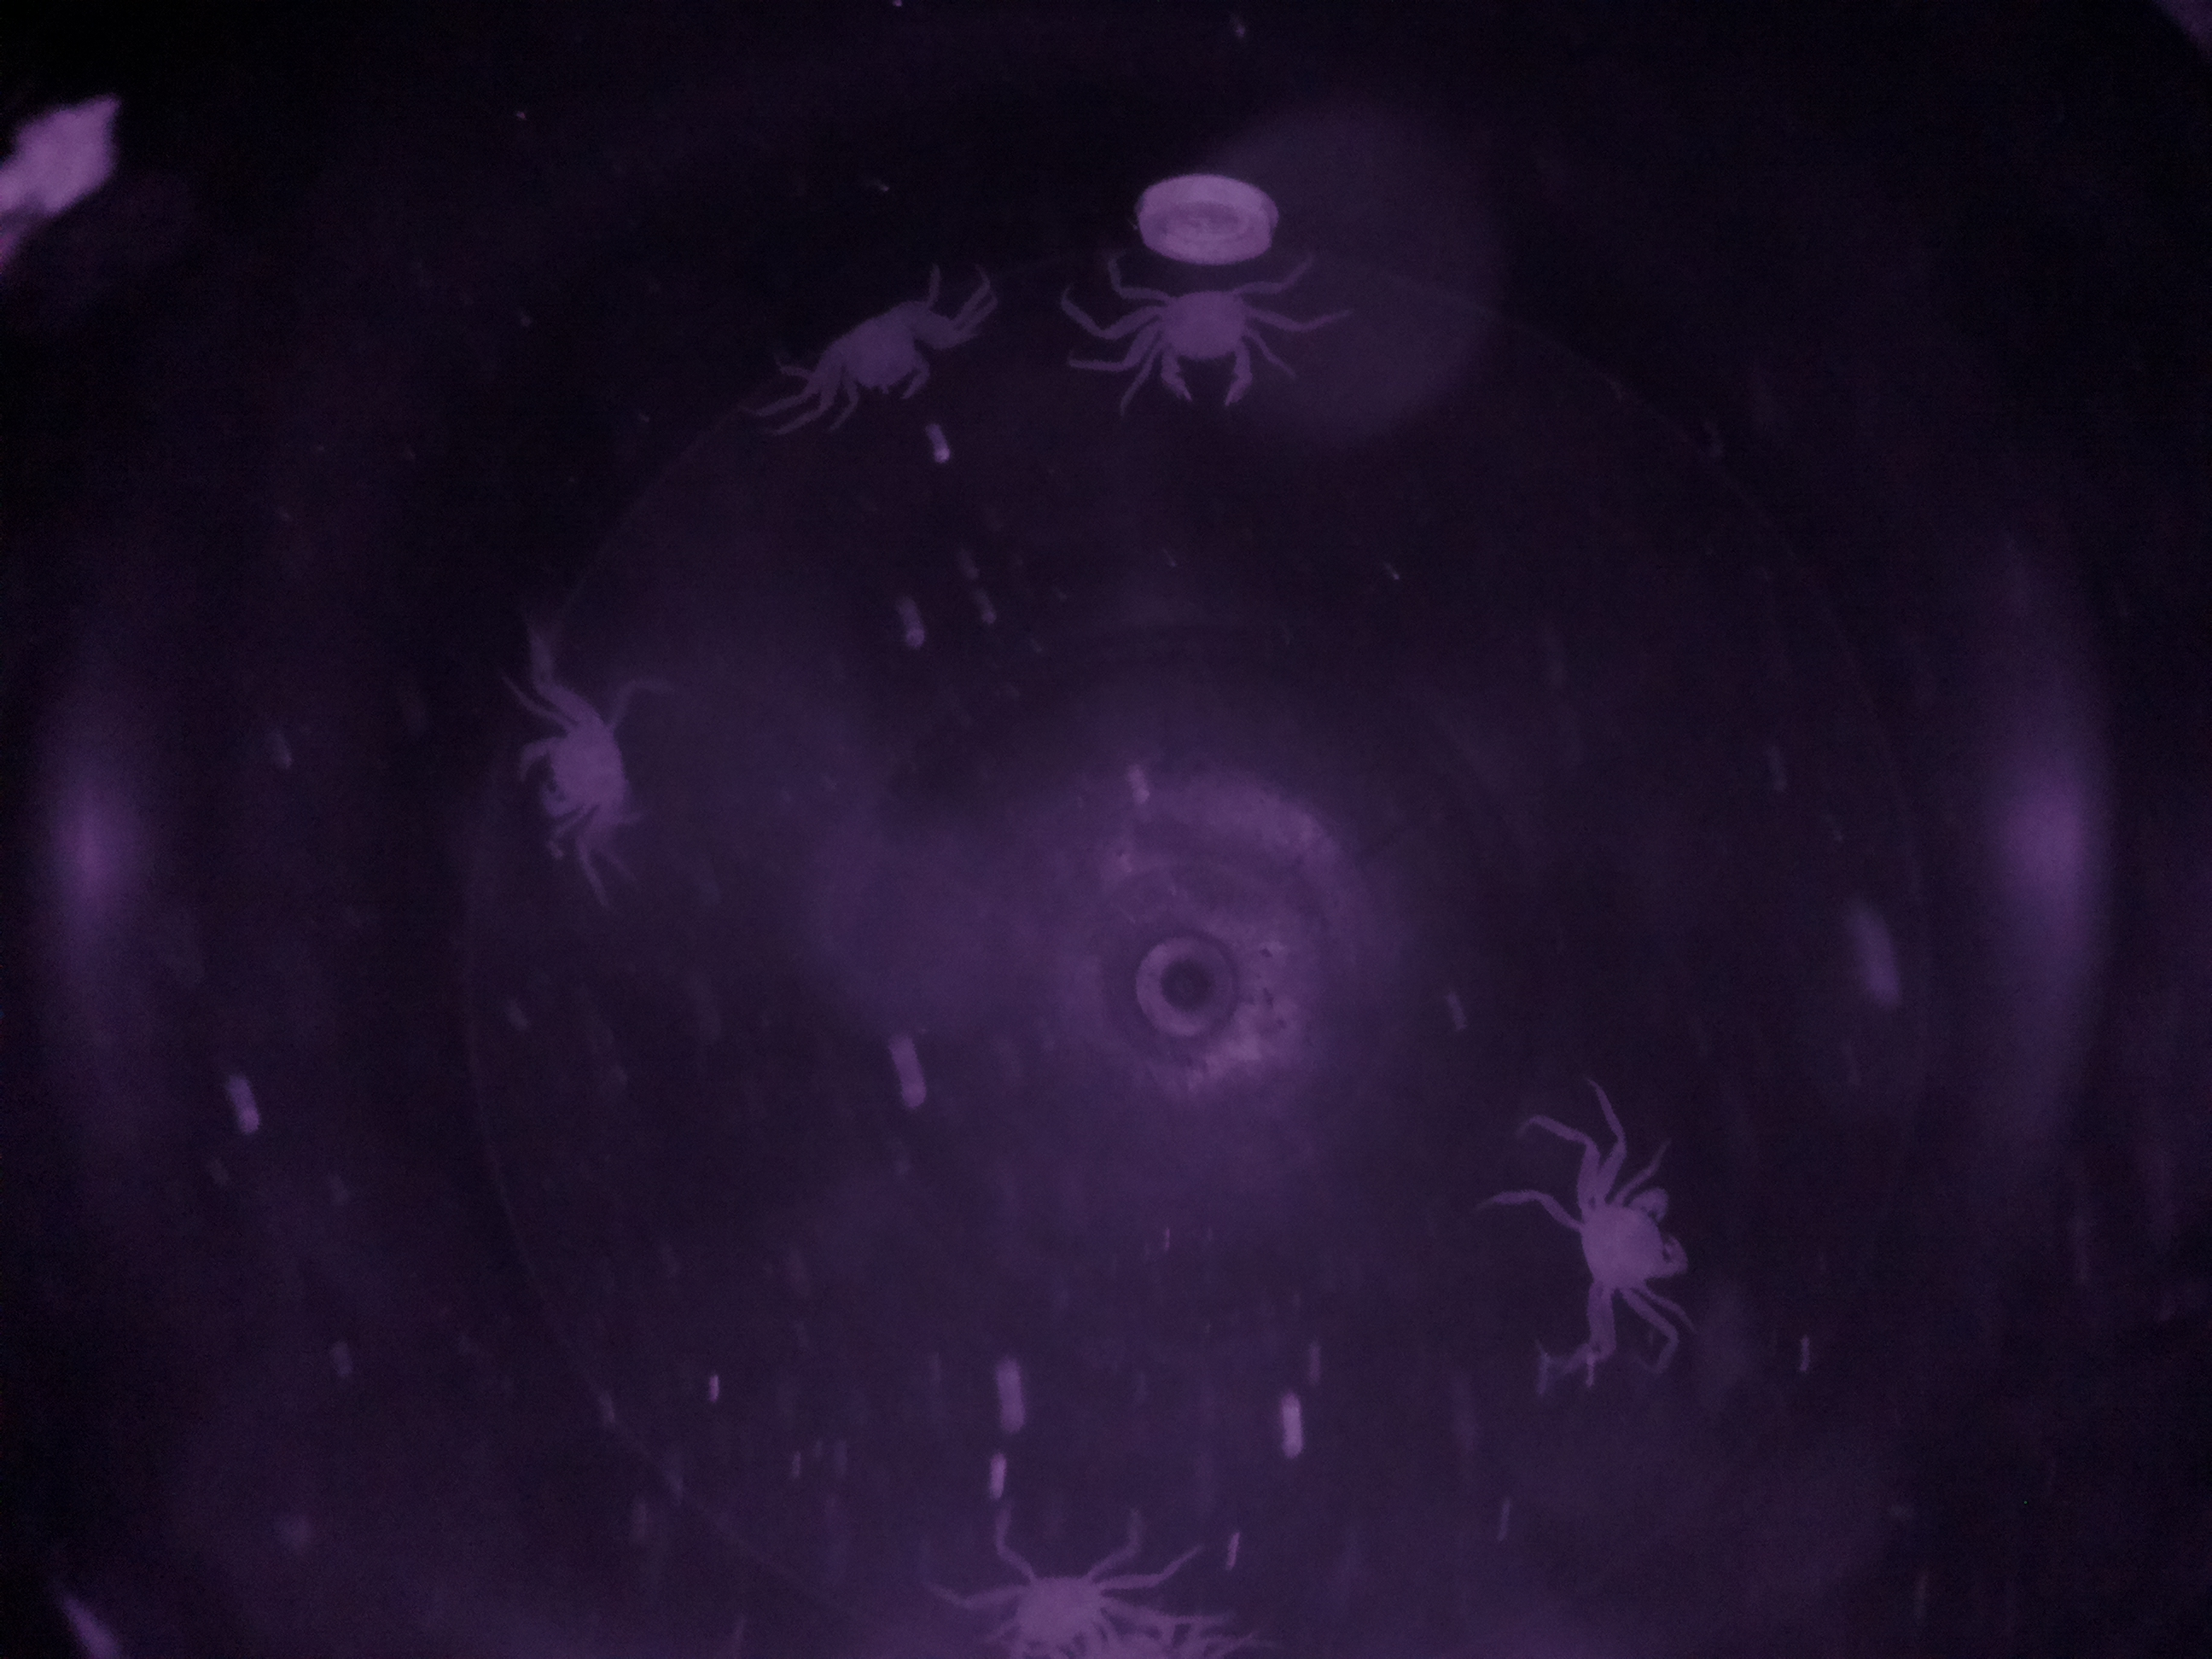Crab: (765, 263, 974, 432), (1089, 247, 1299, 408), (484, 674, 681, 843), (1547, 1145, 1710, 1347)
